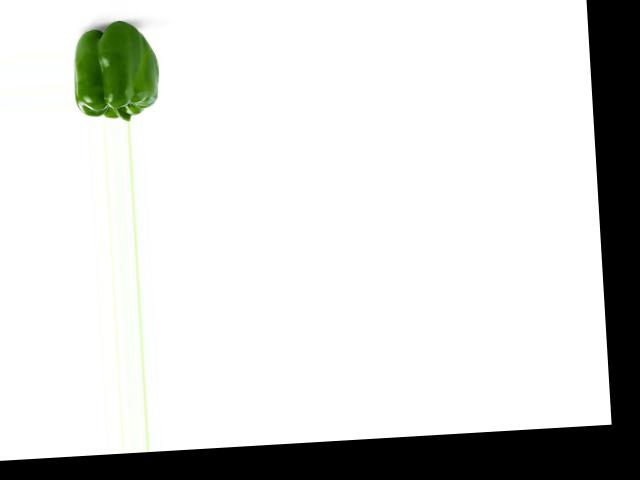bell_pepper: (69, 21, 163, 122)
